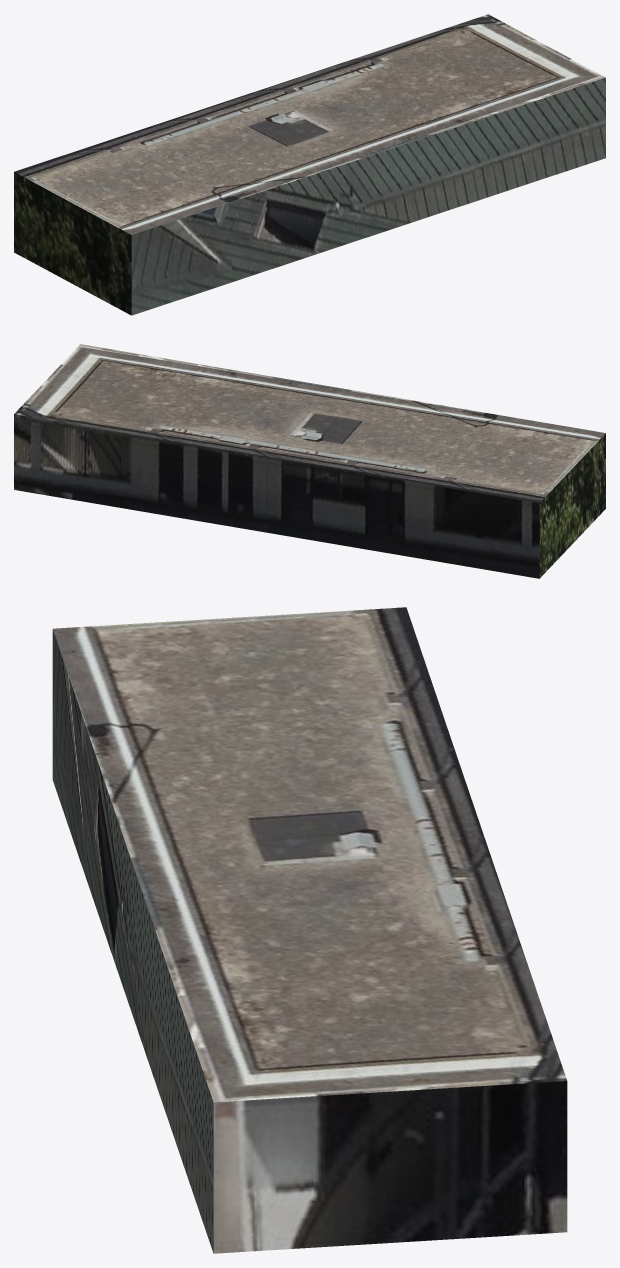
3 views of the same model, one above another, from view 1: azimuth 30°, elevation 25°; view 2: azimuth 150°, elevation 25°; view 3: azimuth 270°, elevation 25° (orthographic). The views are drawn at different scales.
Visible parts, largest first — view 1: Z_UP; view 2: Z_UP; view 3: Z_UP.
Boxes of the visible parts, x1,y1,x2,y2 form: Z_UP: (14, 14, 605, 315); Z_UP: (14, 344, 605, 578); Z_UP: (52, 607, 567, 1253).
Size of the model in its own units: 22.02 by 3.14 by 9.67.
2 materials, 1 textured.
